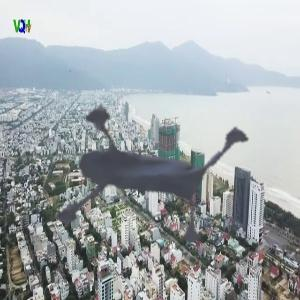drone: (17, 29, 287, 299)
